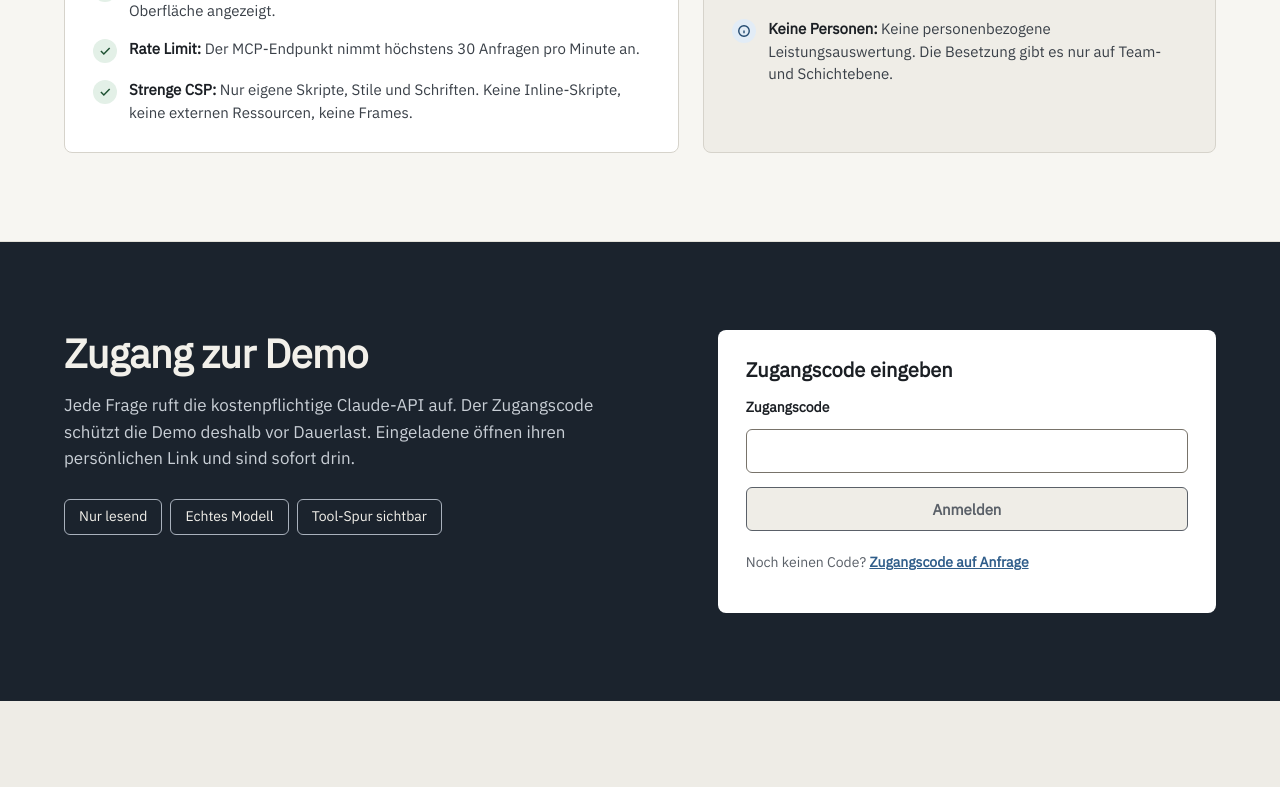
Scenario: Erklärseite ohne Sitzung › zeigt Fehler im Zugangsbereich und bleibt auf der Seite
This screenshot has width=1280, height=787.
(page scrolled)
Type "falsch" into the password field with id "access-code". click: point(967, 451)
box: [746,429,1188,473]
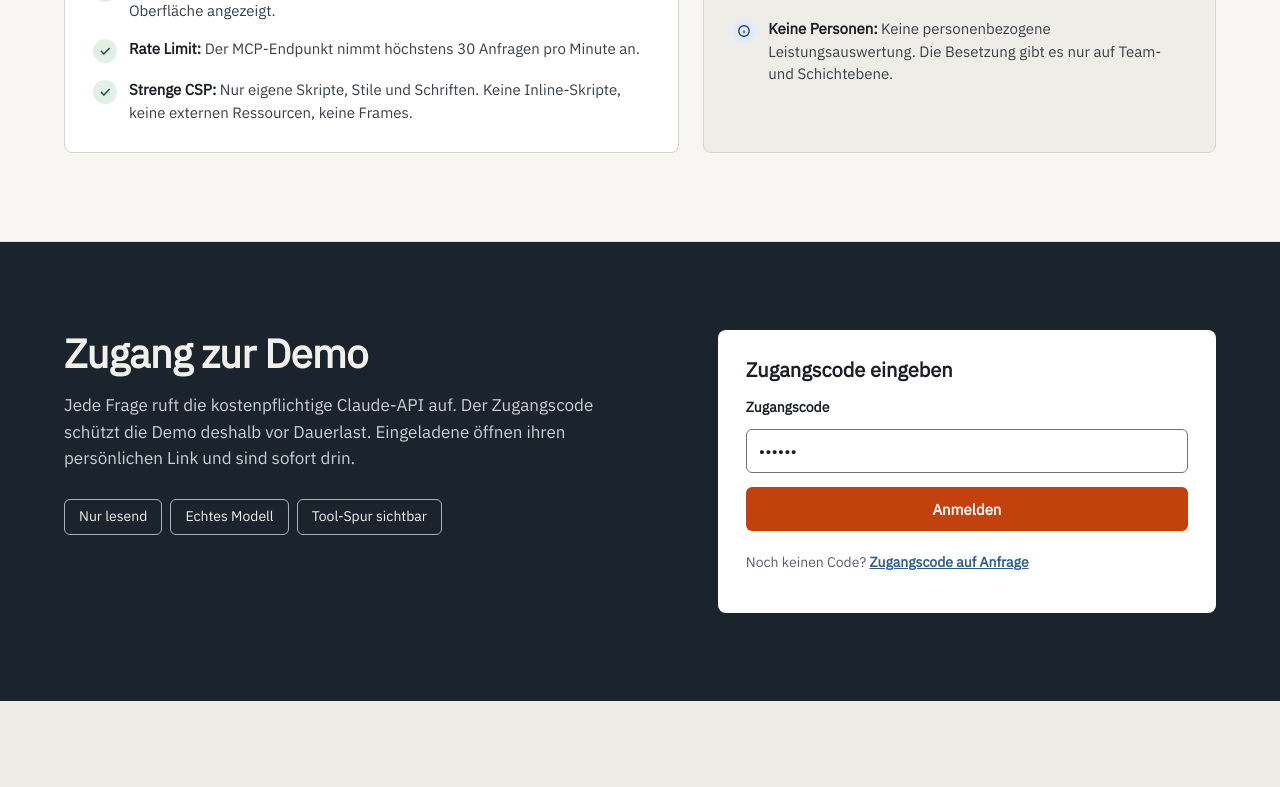
Submit the form with class "access-form", box [746,358,1188,585]
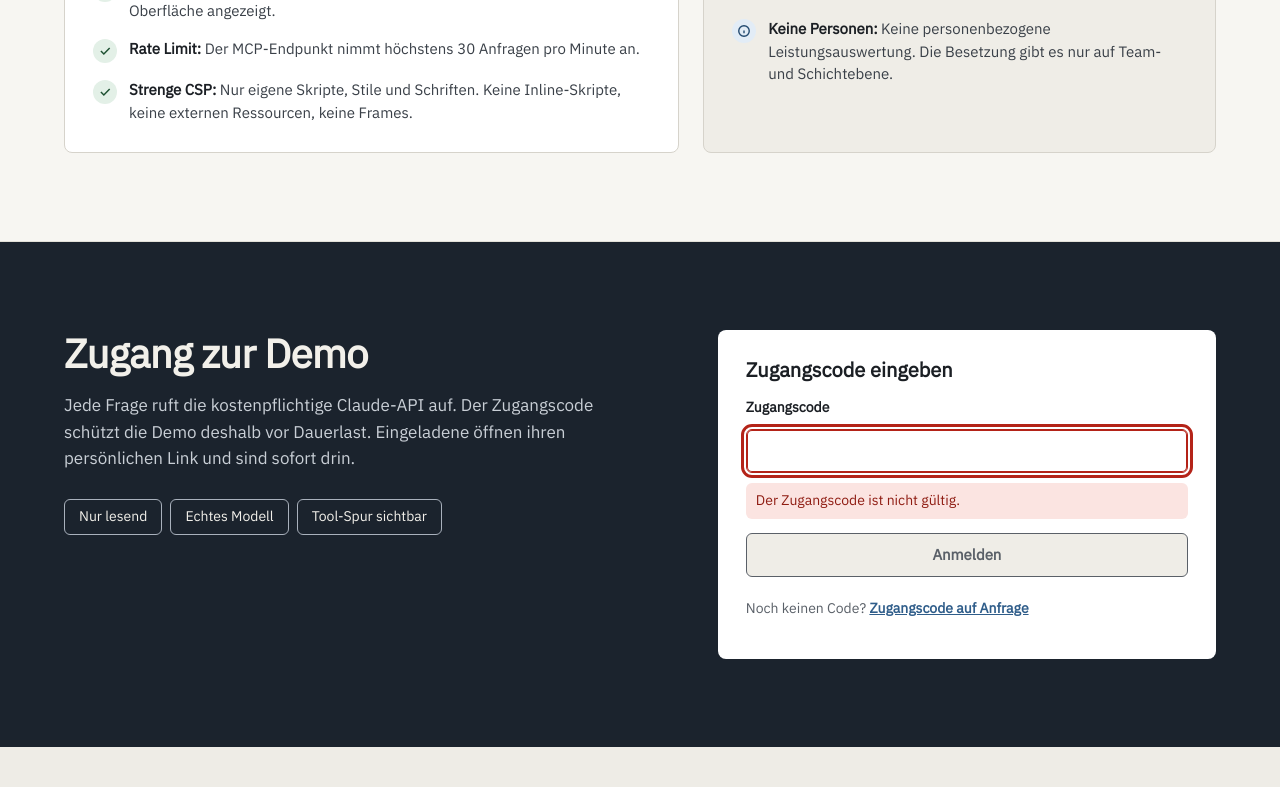
Result: the message "Der Zugangscode ist nicht gültig." is shown at [746,483,1188,519]
